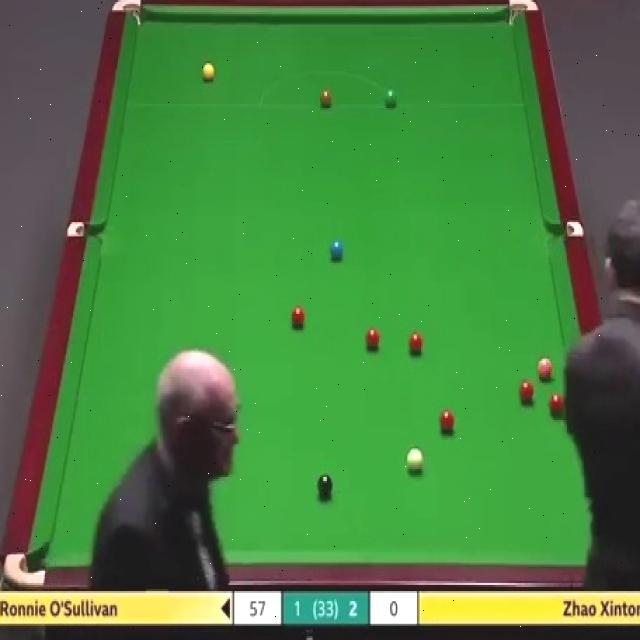black-ball: (318, 474, 334, 498)
blue-ball: (330, 236, 344, 262)
brown-ball: (319, 88, 334, 107)
green-ball: (383, 86, 398, 109)
pink-ball: (536, 356, 553, 380)
red-ball: (438, 409, 455, 433), (518, 378, 533, 404), (365, 326, 380, 352), (550, 392, 565, 417), (409, 331, 423, 356), (290, 304, 304, 326)
white-ball: (406, 446, 424, 477)
yellow-ball: (203, 64, 215, 82)
